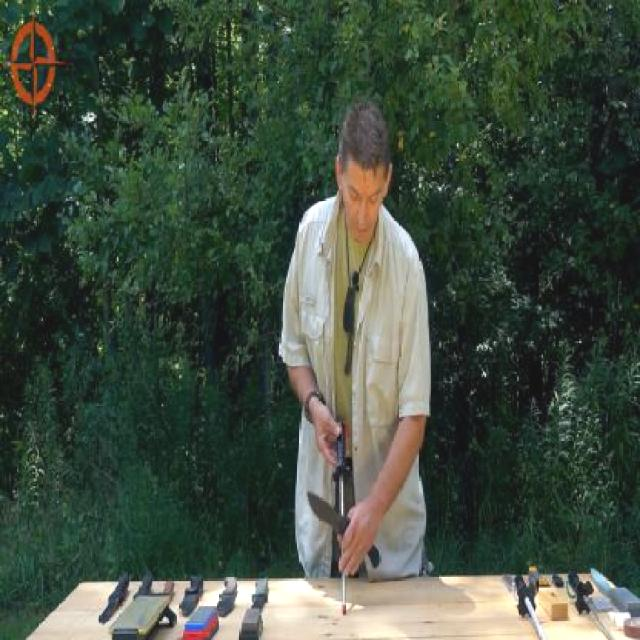knife: (304, 486, 384, 571)
